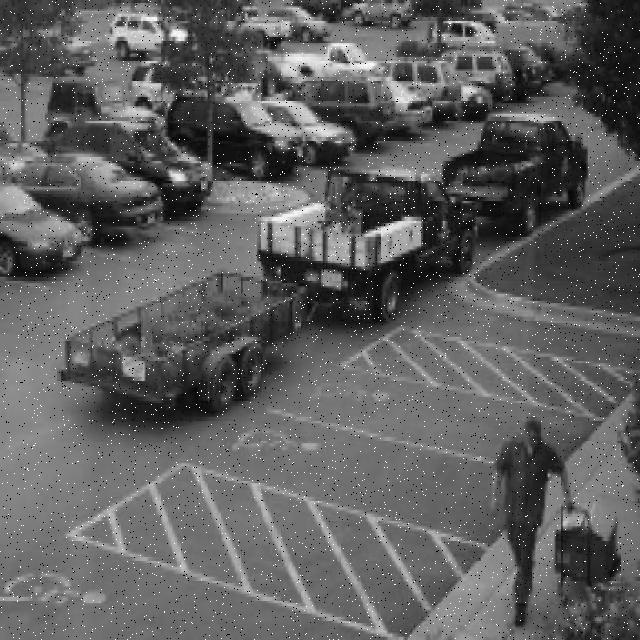Pickup- Utility: (257, 167, 479, 323)
Trailer: (60, 273, 314, 410)
